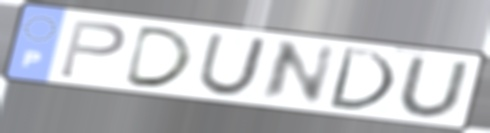D: (324, 45, 399, 114), (120, 24, 196, 90)
N: (255, 39, 340, 105)
P: (56, 17, 129, 81)
U: (194, 32, 271, 99), (395, 55, 473, 121)
